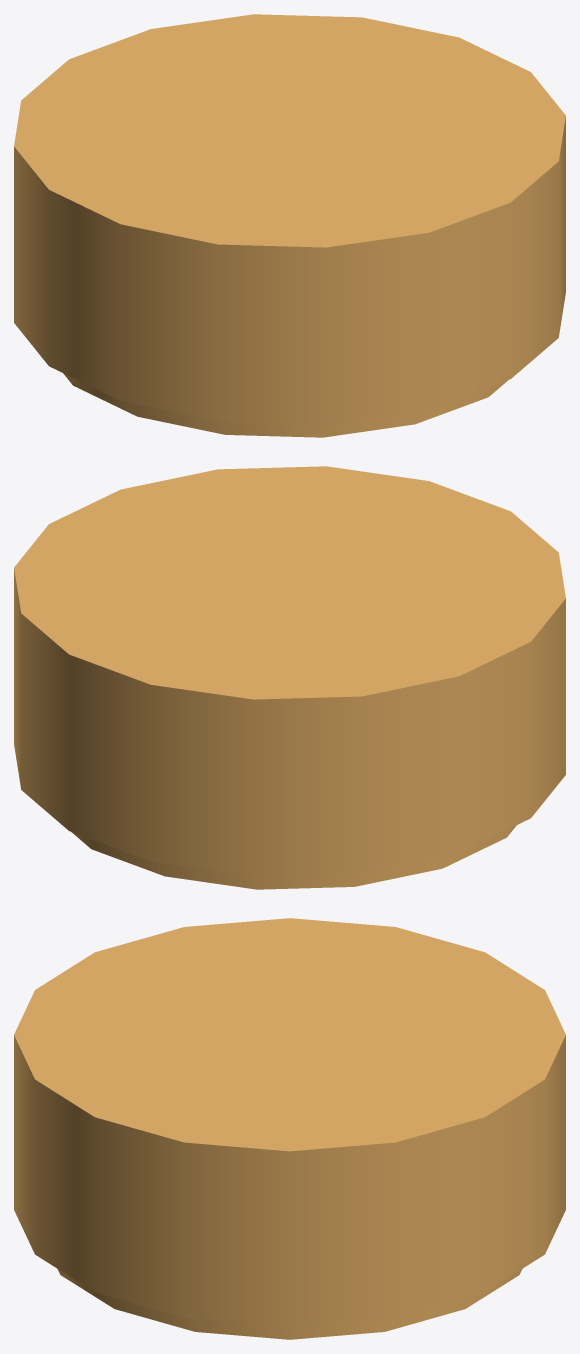
The model's file is round_cap.fbx.
The picture shows the model from 3 angles, top to bottom: view 1: azimuth 30°, elevation 25°; view 2: azimuth 150°, elevation 25°; view 3: azimuth 270°, elevation 25°; orthographic projection.
Visible parts, largest first — view 1: Piece005; view 2: Piece005; view 3: Piece005.
Boxes of the visible parts, x1,y1,x2,y2 form: Piece005: (14,14,565,437); Piece005: (14,466,565,889); Piece005: (14,918,565,1339).
Bounding box in the file's own units: 2000 × 800 × 2000.
